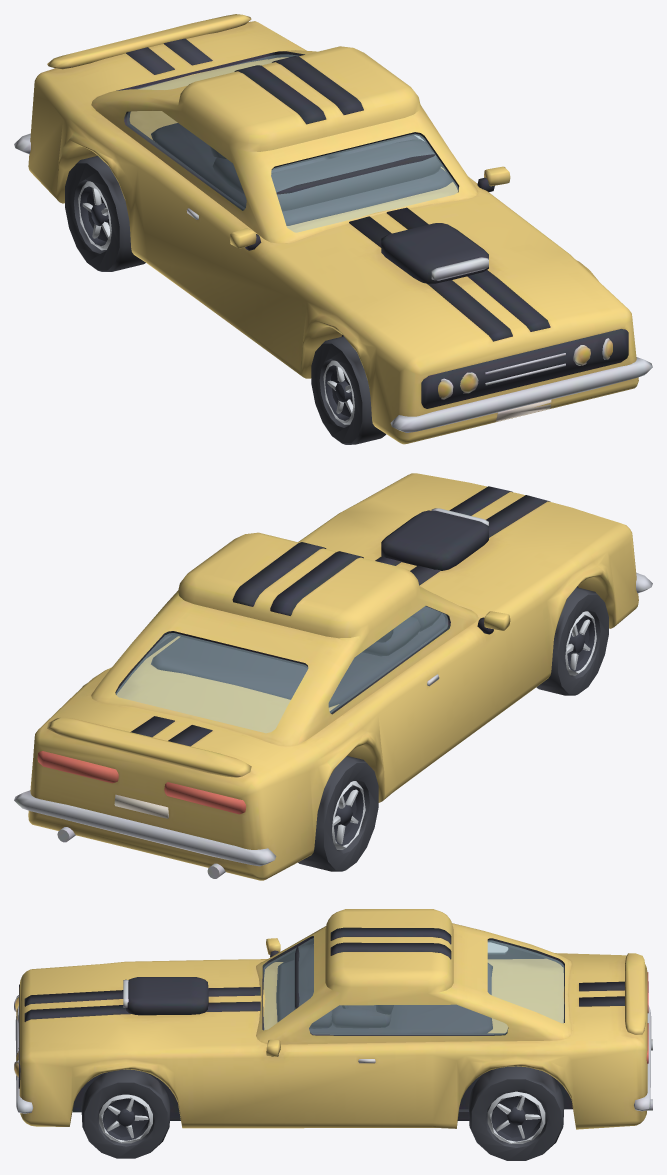
File: n_muscle.glb
3 renders of one model, top to bottom at view 1: azimuth 30°, elevation 25°; view 2: azimuth 150°, elevation 25°; view 3: azimuth 270°, elevation 25°, orthographic. The views are drawn at different scales.
Visible parts, largest first — view 1: muscle-car_body, muscle-car_windows, muscle-car_wheel_rr, muscle-car_wheel_fr; view 2: muscle-car_body, muscle-car_windows, muscle-car_wheel_rr, muscle-car_wheel_fr; view 3: muscle-car_body, muscle-car_windows, muscle-car_wheel_rl, muscle-car_wheel_fl.
Boxes of the visible parts, <box> form: muscle-car_body: <box>14,14,652,444</box>; muscle-car_windows: <box>127,54,458,232</box>; muscle-car_wheel_rr: <box>65,156,145,271</box>; muscle-car_wheel_fr: <box>311,336,386,444</box>; muscle-car_body: <box>14,473,652,880</box>; muscle-car_windows: <box>116,606,447,732</box>; muscle-car_wheel_rr: <box>298,756,378,871</box>; muscle-car_wheel_fr: <box>536,587,608,695</box>; muscle-car_body: <box>14,909,652,1129</box>; muscle-car_windows: <box>264,938,563,1034</box>; muscle-car_wheel_rl: <box>468,1066,564,1160</box>; muscle-car_wheel_fl: <box>81,1069,170,1158</box>.
Size of the model in its own units: 1.91 by 1.39 by 4.68.
3 materials, 1 textured.
